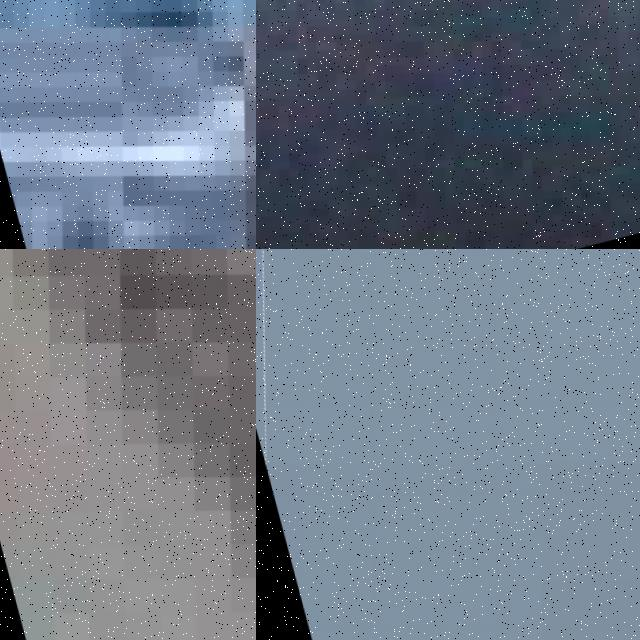drone: (256, 249, 640, 640), (0, 249, 256, 640), (256, 0, 640, 249), (0, 0, 256, 249)
